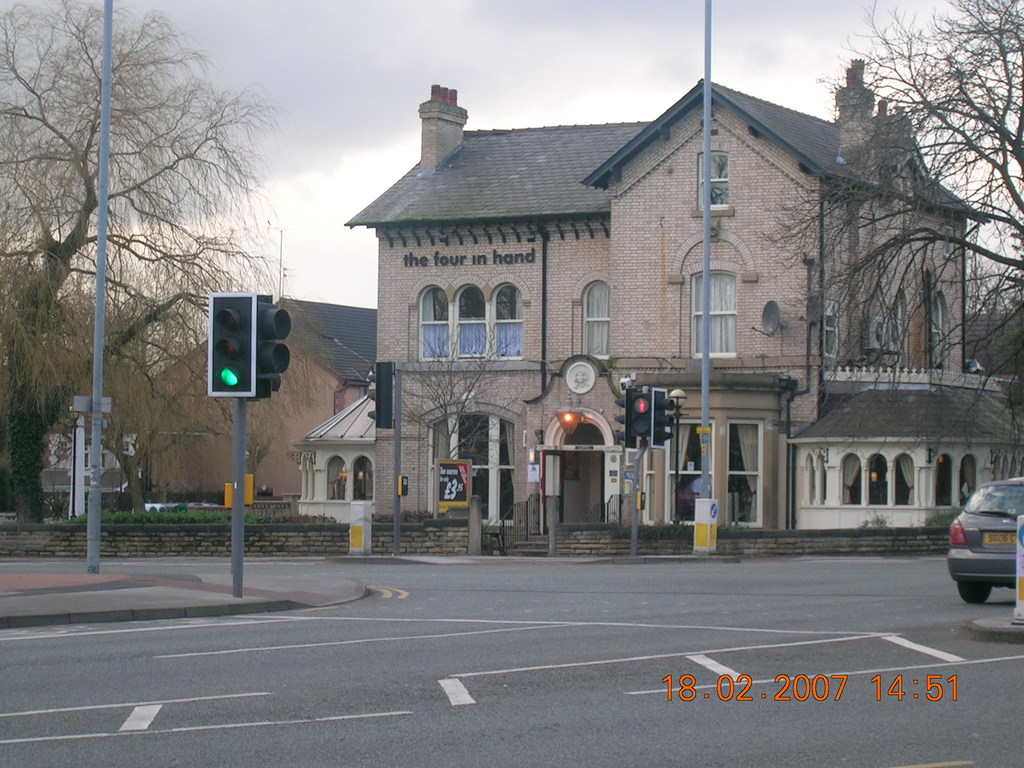green_light: (211, 295, 254, 398)
